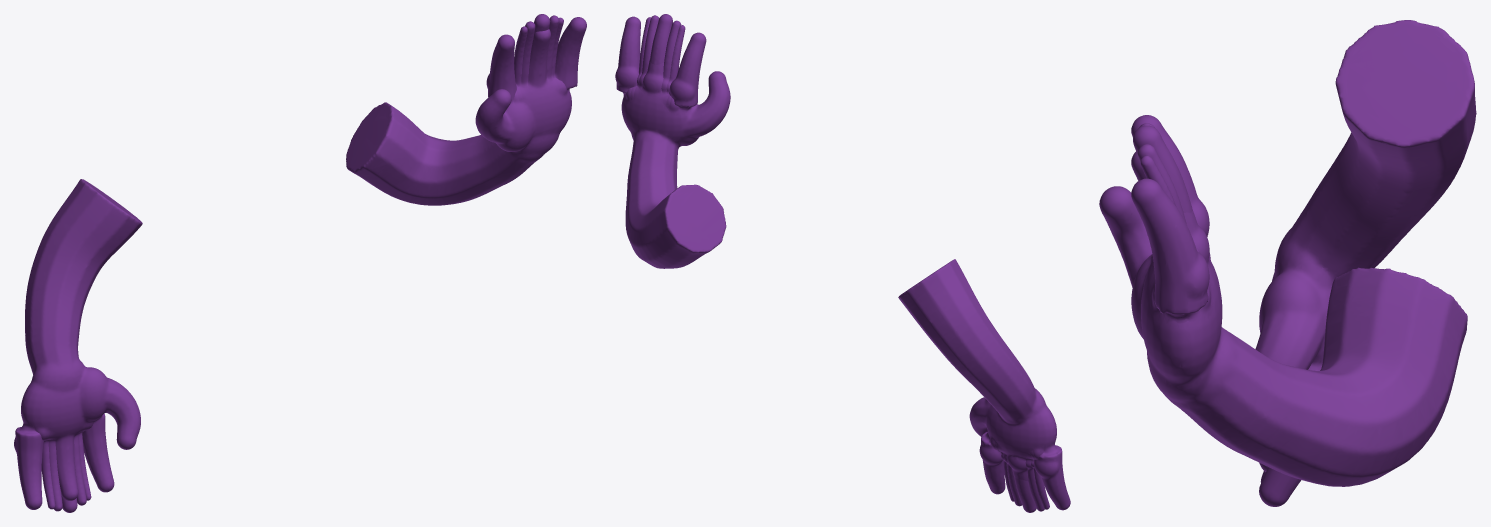
The model's file is hands-v2.glb.
The picture shows the model from 3 angles, left to right: view 1: azimuth 30°, elevation 25°; view 2: azimuth 150°, elevation 25°; view 3: azimuth 270°, elevation 25°; orthographic projection. The views are drawn at different scales.
Visible parts, largest first — view 1: Sculpted palms and tapered fingers, Sculpted palms and tapered fingers.001, Sculpted palms and tapered fingers.002, Sculpted palms and tapered fingers.004, Sculpted palms and tapered fingers.003; view 2: Sculpted palms and tapered fingers, Sculpted palms and tapered fingers.001, Sculpted palms and tapered fingers.002, Sculpted palms and tapered fingers.004, Sculpted palms and tapered fingers.003; view 3: Sculpted palms and tapered fingers, Sculpted palms and tapered fingers.001, Sculpted palms and tapered fingers.002, Sculpted palms and tapered fingers.004, Sculpted palms and tapered fingers.003.
Boxes of the visible parts, x1,y1,x2,y2 form: Sculpted palms and tapered fingers: (21,29,571,500); Sculpted palms and tapered fingers.001: (14,17,586,509); Sculpted palms and tapered fingers.002: (21,14,571,512); Sculpted palms and tapered fingers.004: (22,17,571,509); Sculpted palms and tapered fingers.003: (21,15,571,511); Sculpted palms and tapered fingers: (621,60,1056,481); Sculpted palms and tapered fingers.001: (615,16,1070,510); Sculpted palms and tapered fingers.002: (621,14,1056,512); Sculpted palms and tapered fingers.004: (622,17,1056,509); Sculpted palms and tapered fingers.003: (621,15,1056,511); Sculpted palms and tapered fingers: (1099,20,1476,486); Sculpted palms and tapered fingers.001: (1099,20,1476,506); Sculpted palms and tapered fingers.002: (1099,20,1475,486); Sculpted palms and tapered fingers.004: (1102,20,1475,486); Sculpted palms and tapered fingers.003: (1112,24,1475,486).
Bounding box in the file's own units: 2.4 × 1.83 × 0.826.
